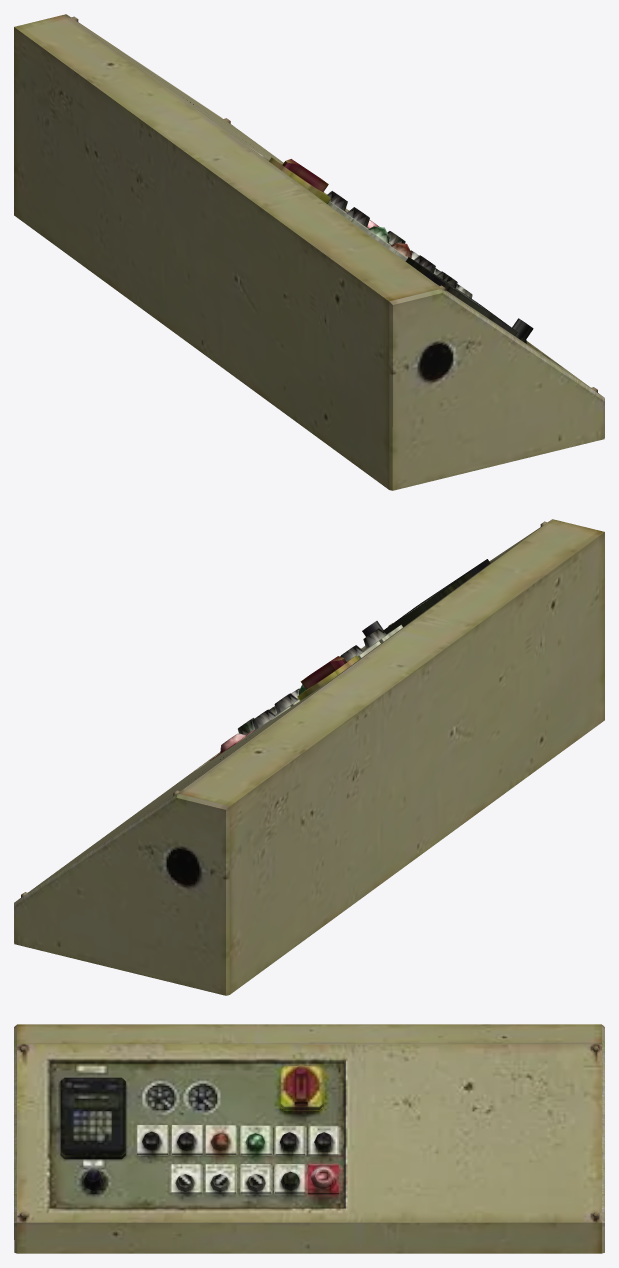
File: desk_console3.glb
The picture shows the model from 3 angles, top to bottom: view 1: azimuth 30°, elevation 25°; view 2: azimuth 150°, elevation 25°; view 3: azimuth 270°, elevation 25°; orthographic projection. The views are drawn at different scales.
Parts seen in each view (by area): view 1: 1_desk_console2, 0_desk_console1; view 2: 1_desk_console2, 0_desk_console1; view 3: 0_desk_console1, 1_desk_console2.
Part boxes in pixels (left/top/right/bottom): 1_desk_console2: left=14, top=14, right=604, bottom=490; 0_desk_console1: left=69, top=16, right=601, bottom=395; 1_desk_console2: left=14, top=519, right=604, bottom=995; 0_desk_console1: left=17, top=520, right=550, bottom=900; 0_desk_console1: left=17, top=1044, right=601, bottom=1222; 1_desk_console2: left=14, top=1024, right=604, bottom=1253.
Bounding box in the file's own units: 0.4087 × 0.3411 × 1.24.
2 materials, 2 textured.
